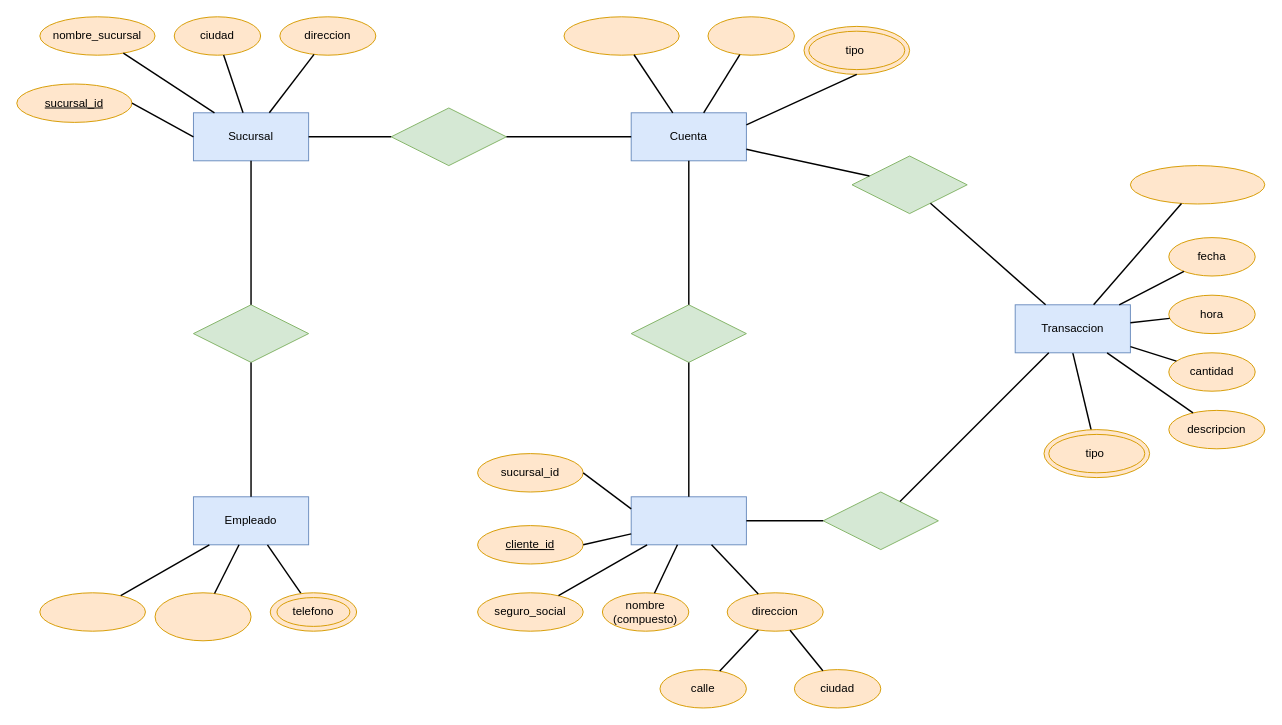
The diagram is 1282 pixels wide and 725 high, and some of its shapes have lost their labels. The shapes that lost their labels are listed below. From the top down, each one's centre as x and y in pixels, then its label:
the point at 621,35: numero_cuenta
the point at 750,35: saldo
the point at 448,136: crea (1:M)
the point at 909,184: tiene (1:M)
the point at 1197,184: numero_transaccion
the point at 250,333: emplea (1:M)
the point at 688,333: posee (1:M)
the point at 688,520: Cliente
the point at 880,520: ejecuta (1:M)
the point at 92,611: empleado_id
the point at 202,616: nombre_completo (es compuesto)
